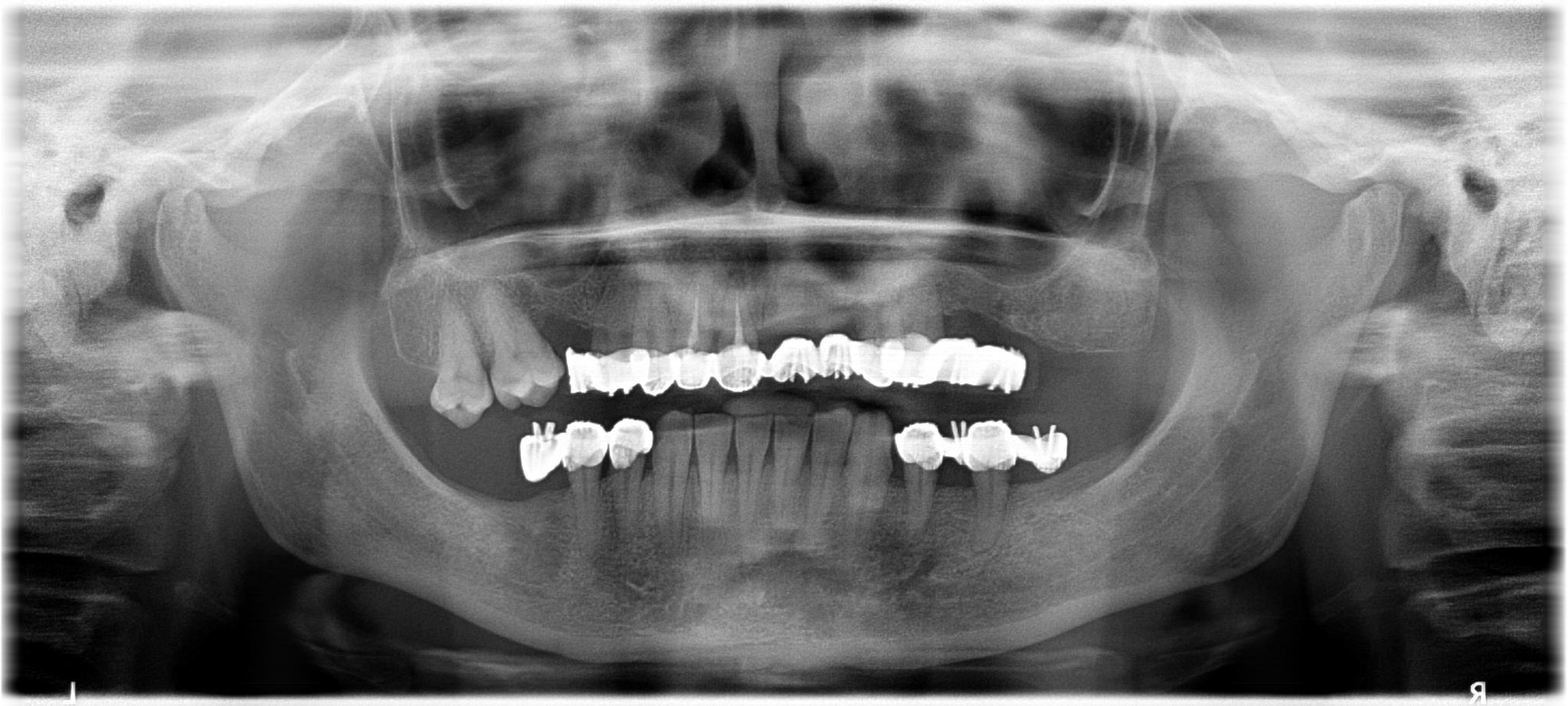Premolars: (222, 231, 712, 638)
